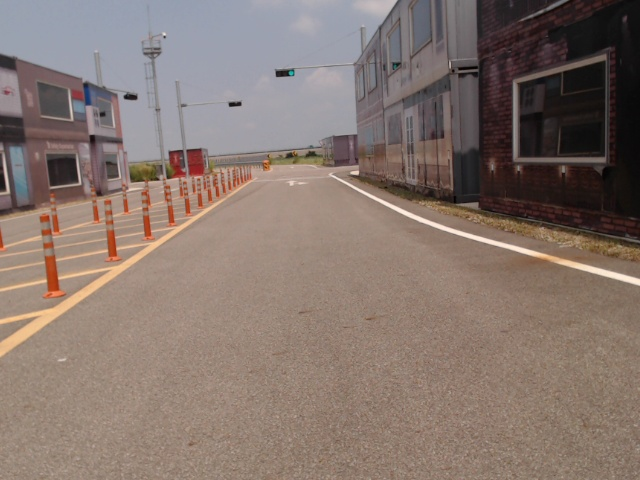green_3: (276, 69, 294, 77)
